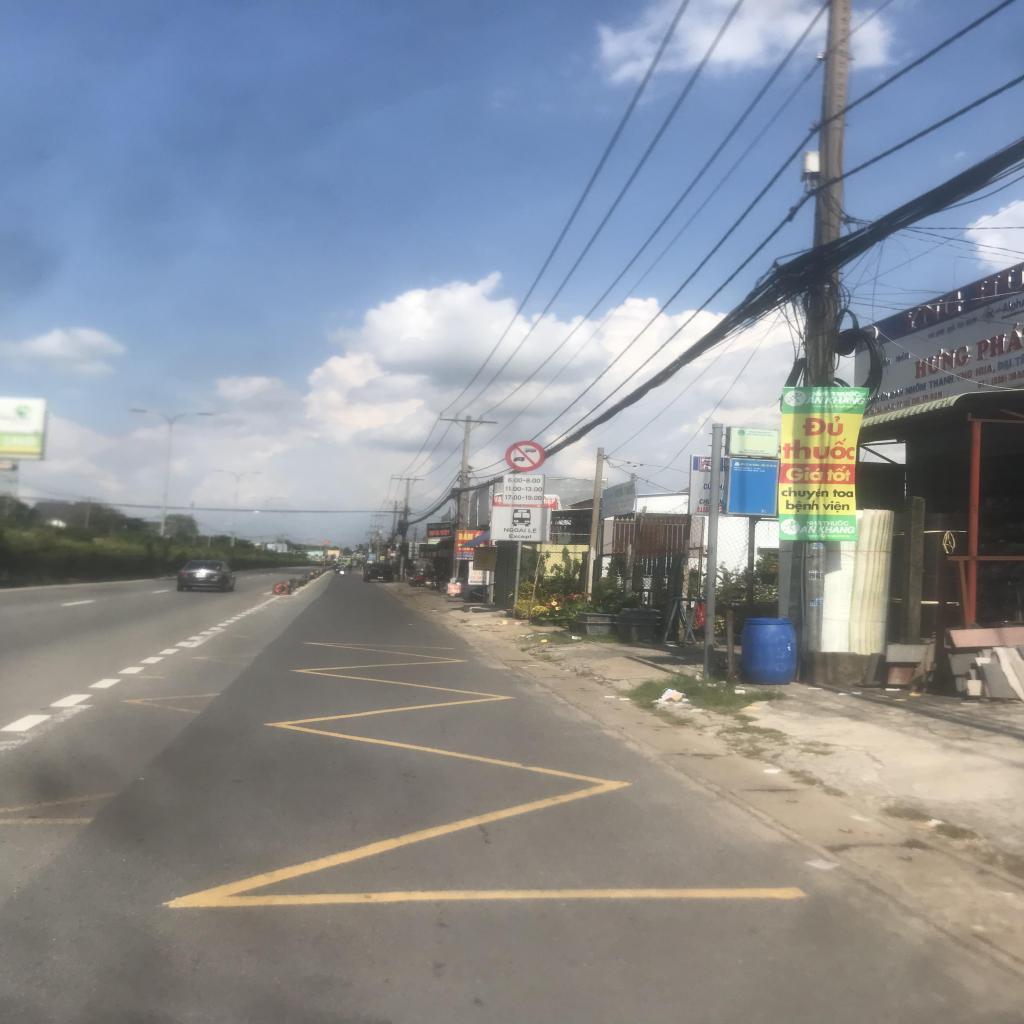cam_o_to_tai_va_xe_khach: (504, 440, 548, 472)
khac: (491, 507, 552, 540), (502, 474, 544, 504)
